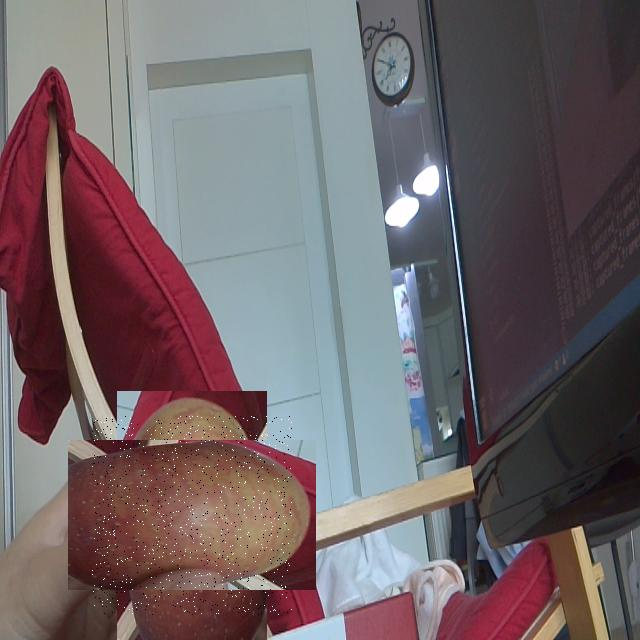apple: (92, 416, 292, 615)
